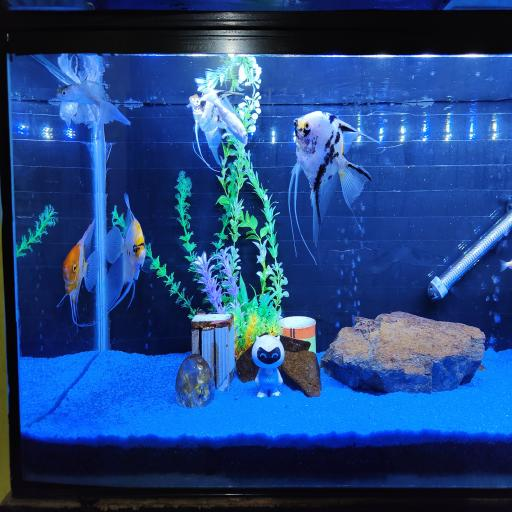Fish: (289, 111, 376, 260), (106, 194, 150, 311), (58, 221, 99, 327), (57, 81, 130, 125), (200, 88, 248, 144), (188, 94, 221, 170), (501, 261, 511, 271)
